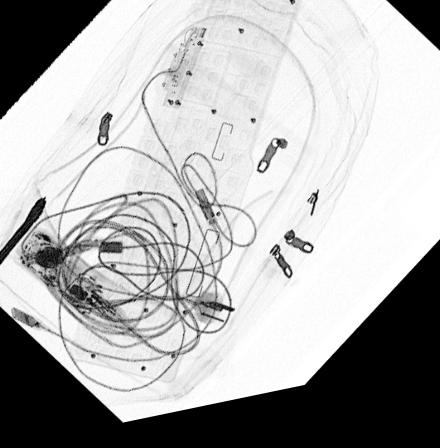Gun: (0, 197, 46, 267)
